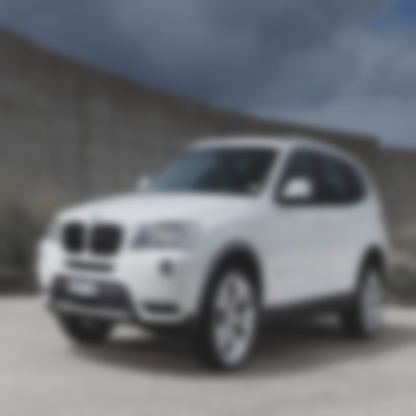Vehicle: (38, 136, 392, 373)
